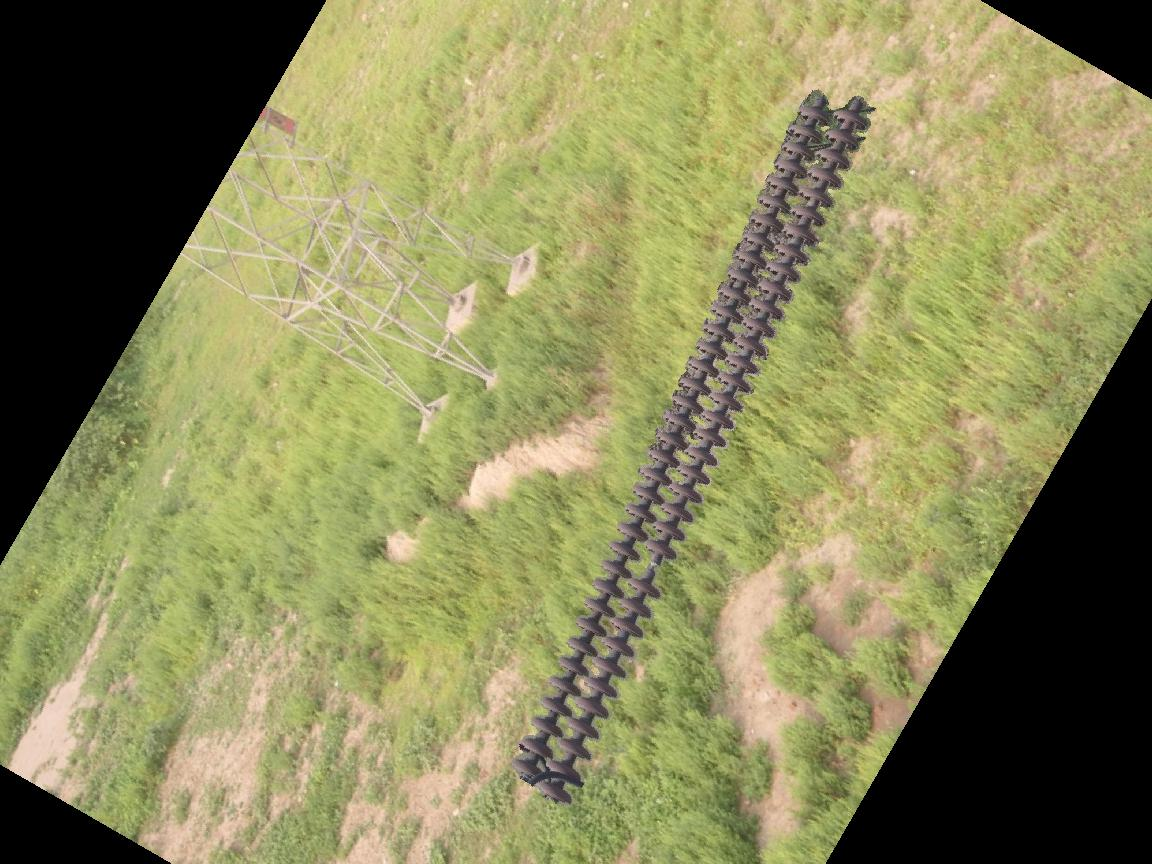insulator: (509, 92, 876, 805)
insulator_stringdrop: (625, 538, 680, 601)
